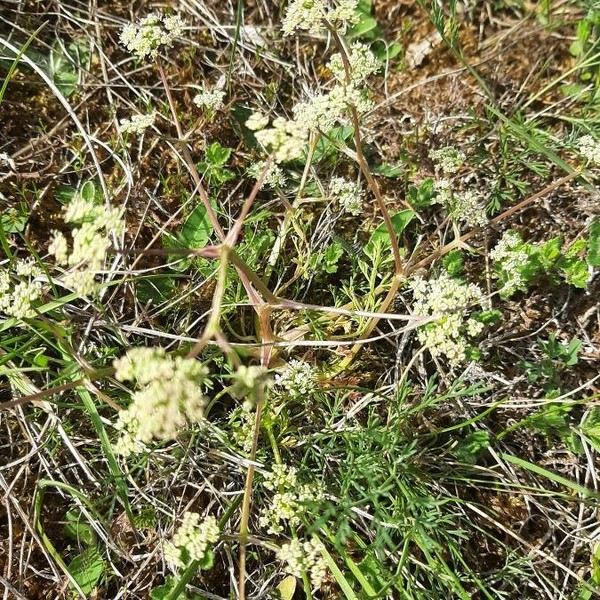obstacle: (63, 174, 471, 573)
